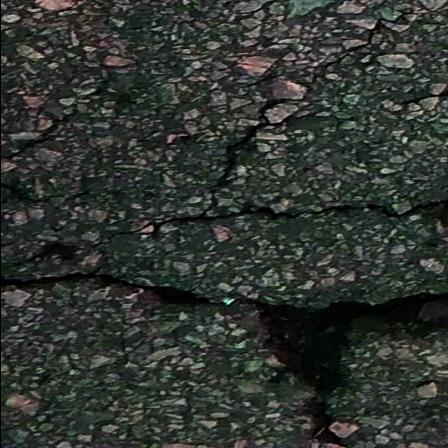crack: (0, 5, 448, 279), (0, 255, 448, 448), (0, 85, 111, 166), (0, 181, 91, 210), (395, 89, 448, 110)
